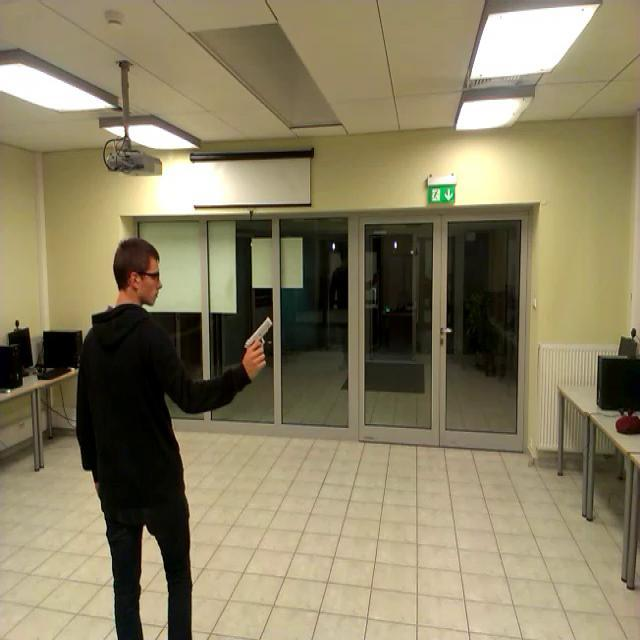Gun: (243, 316, 271, 366)
